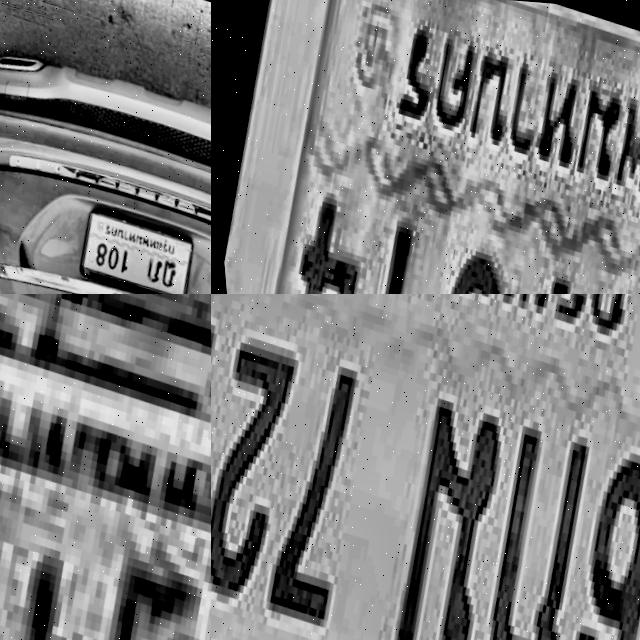license-plate: (211, 294, 640, 640), (211, 0, 640, 294), (0, 294, 211, 640), (65, 197, 194, 294)
